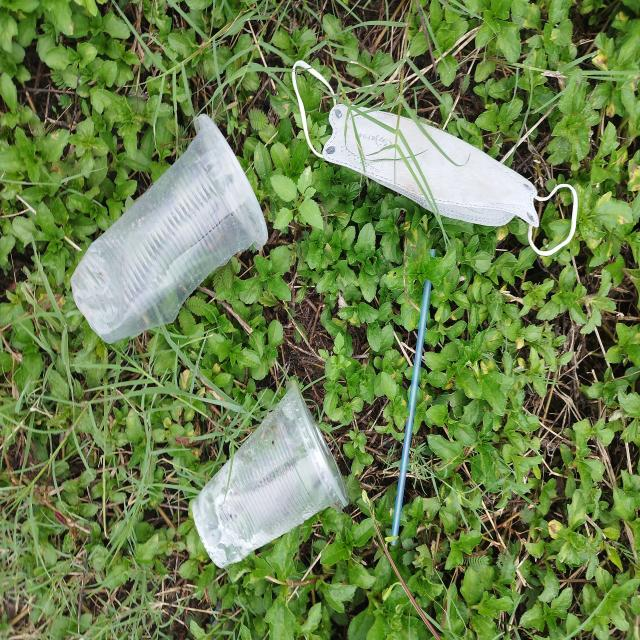drinking straw: (391, 249, 436, 546)
mask: (292, 60, 578, 257)
plastic glass: (71, 112, 268, 343), (192, 380, 348, 570)
